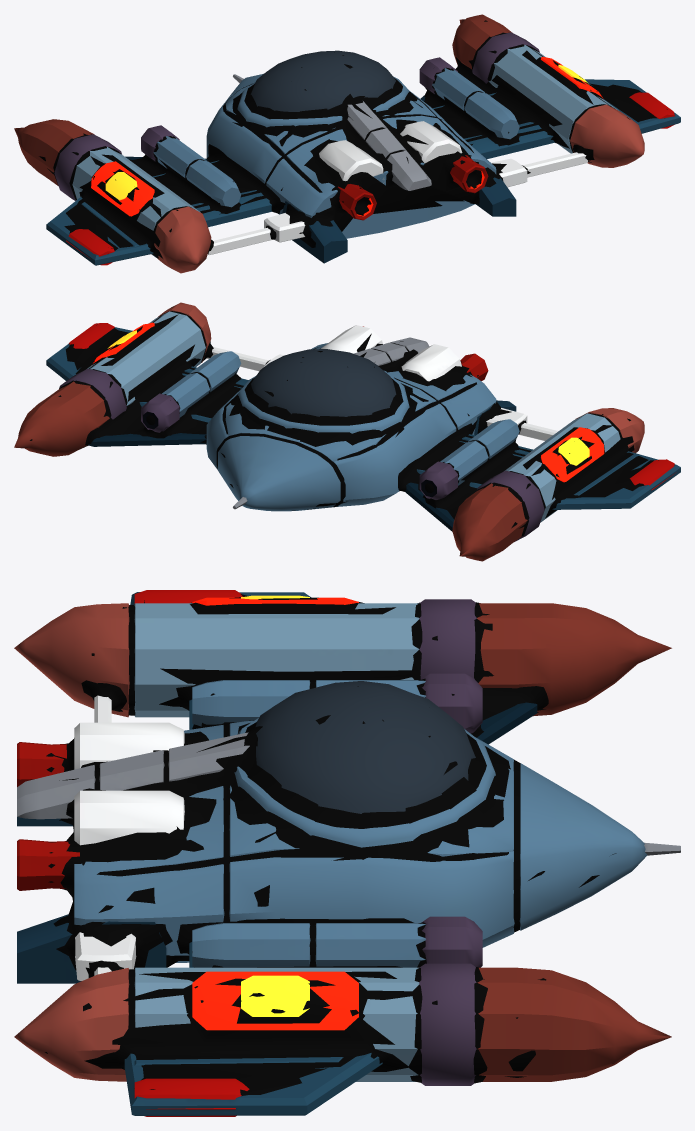
The model's file is companion-ship-quicksilver.glb.
3 views of the same model, one above another, from view 1: azimuth 30°, elevation 25°; view 2: azimuth 150°, elevation 25°; view 3: azimuth 270°, elevation 25° (orthographic). The views are drawn at different scales.
Visible parts, largest first — view 1: sidekick-companion-ship-quicksilver, sidekick-companion-ship-quicksilver_outline; view 2: sidekick-companion-ship-quicksilver, sidekick-companion-ship-quicksilver_outline; view 3: sidekick-companion-ship-quicksilver, sidekick-companion-ship-quicksilver_outline.
Boxes of the visible parts, x1=… form: sidekick-companion-ship-quicksilver: x1=14, y1=14, x2=680, y2=273; sidekick-companion-ship-quicksilver_outline: x1=39, y1=20, x2=667, y2=258; sidekick-companion-ship-quicksilver: x1=14, y1=302, x2=680, y2=561; sidekick-companion-ship-quicksilver_outline: x1=30, y1=306, x2=658, y2=536; sidekick-companion-ship-quicksilver: x1=14, y1=590, x2=680, y2=1116; sidekick-companion-ship-quicksilver_outline: x1=45, y1=594, x2=616, y2=1095.
Bounding box in the file's own units: 1.75 × 0.328 × 0.9667.
19 materials, 12 textured.
